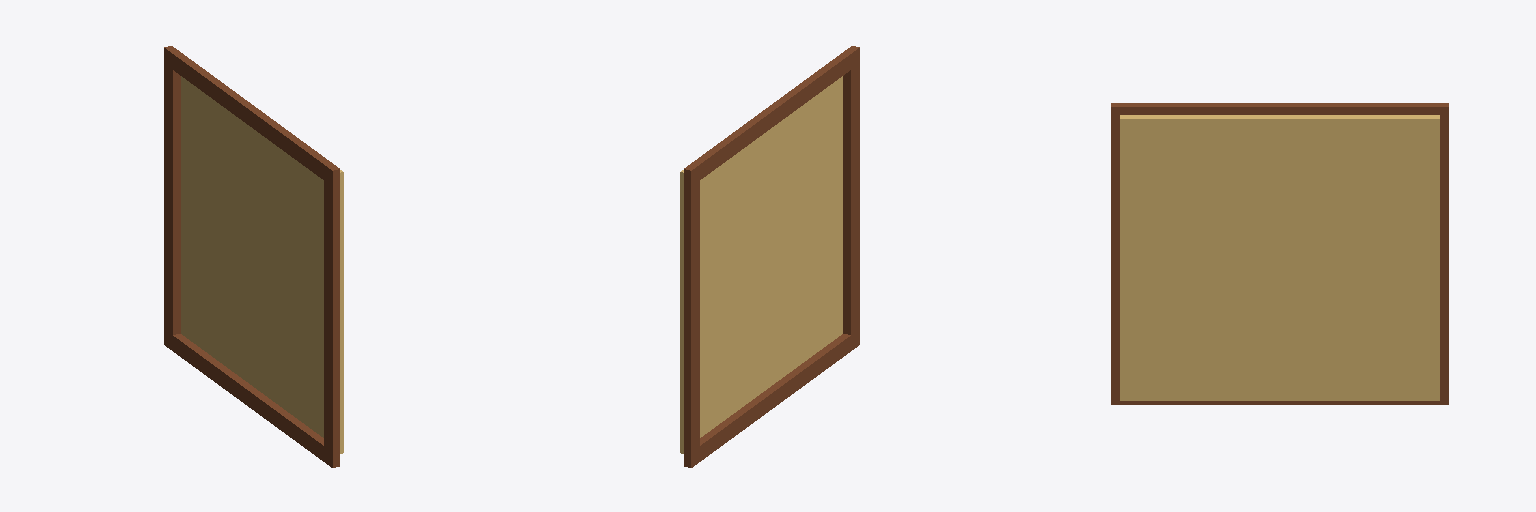
The picture shows the model from 3 angles: view 1: azimuth 30°, elevation 25°; view 2: azimuth 150°, elevation 25°; view 3: azimuth 270°, elevation 25°; orthographic projection.
Visible parts, largest first — view 1: object 1; view 2: object 1; view 3: object 1.
Boxes of the visible parts, x1=… form: object 1: x1=164, y1=46, x2=343, y2=467; object 1: x1=680, y1=46, x2=859, y2=467; object 1: x1=1111, y1=103, x2=1448, y2=404.
Size of the model in its own units: 0.2 by 3.7 by 3.8.
Materials: 1 (1 with a texture image).